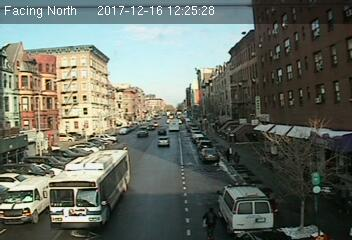bicycle: (200, 206, 217, 240)
bus: (45, 148, 132, 227)
car: (198, 148, 220, 163), (156, 137, 168, 145)
police: (216, 181, 277, 236)
truck: (1, 175, 52, 225)
